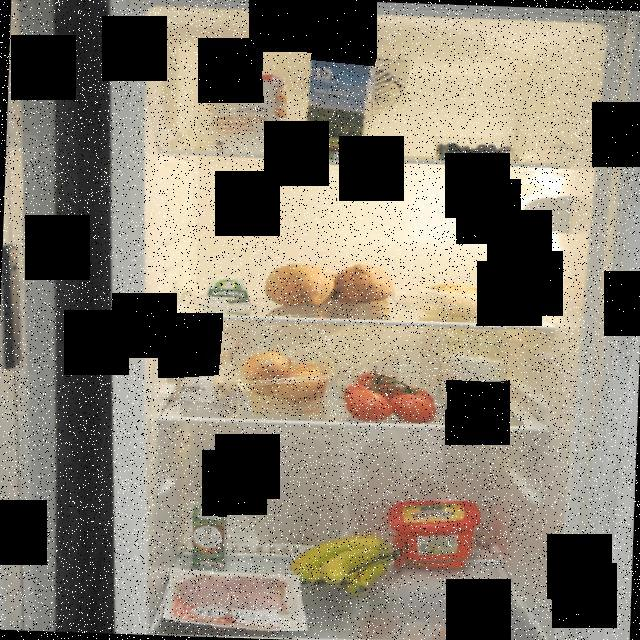banana: (289, 531, 405, 596)
blueberries: (428, 134, 526, 162)
butter: (381, 502, 481, 570)
corn: (452, 379, 504, 423)
flour: (180, 328, 253, 410)
goat_cheese: (198, 272, 258, 309)
ham: (163, 566, 313, 631)
heavy_cream: (188, 504, 227, 568)
milk: (302, 44, 376, 166)
onion: (242, 350, 340, 418)
potato: (413, 272, 523, 318)
sugar: (205, 70, 288, 155), (436, 324, 508, 410)
sweet_potato: (262, 260, 396, 318)
tomato: (338, 365, 438, 423)
